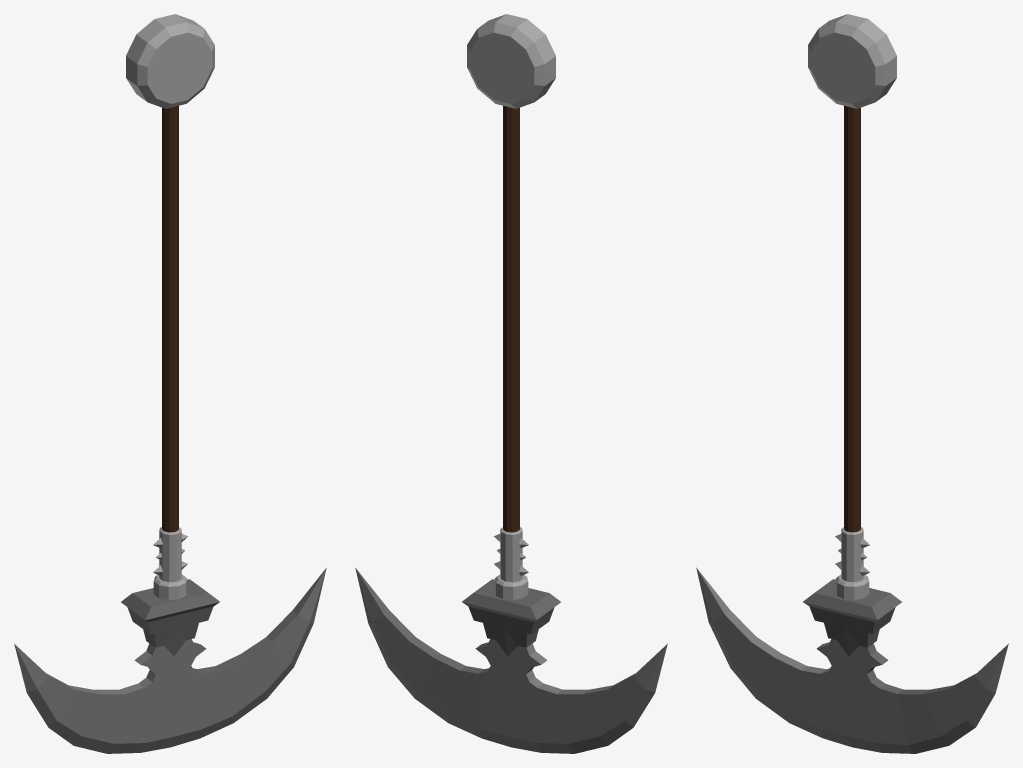
The model's file is StonePendulumTrap_1.fbx.
3 renders of one model, left to right at view 1: azimuth 30°, elevation 25°; view 2: azimuth 150°, elevation 25°; view 3: azimuth 330°, elevation 25°, orthographic.
Parts seen in each view (by area): view 1: StonePendulumTrap_1; view 2: StonePendulumTrap_1; view 3: StonePendulumTrap_1.
Part boxes in pixels (left/top/right/bottom): StonePendulumTrap_1: left=14, top=14, right=326, bottom=753; StonePendulumTrap_1: left=355, top=14, right=667, bottom=753; StonePendulumTrap_1: left=696, top=14, right=1008, bottom=753.
Bounding box in the file's own units: 152 × 337 × 20.83.
